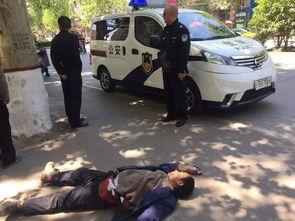down: (7, 157, 202, 221)
up: (155, 5, 192, 127), (51, 14, 89, 129)
